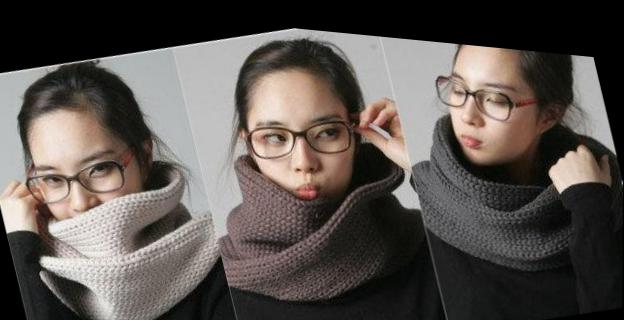NONE: (245, 92, 373, 228), (436, 43, 542, 166)
WRONG: (24, 130, 149, 264)
